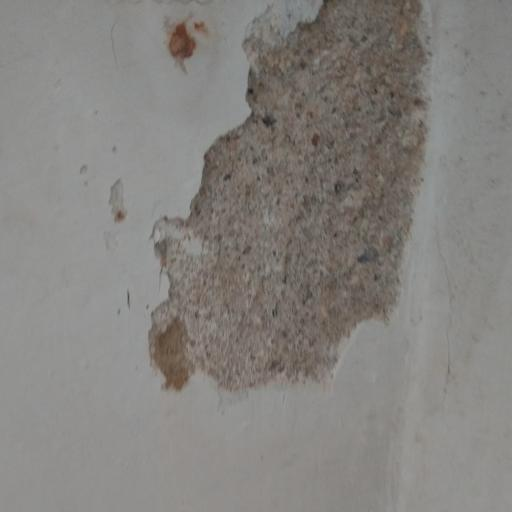peeling: (115, 2, 450, 414)
